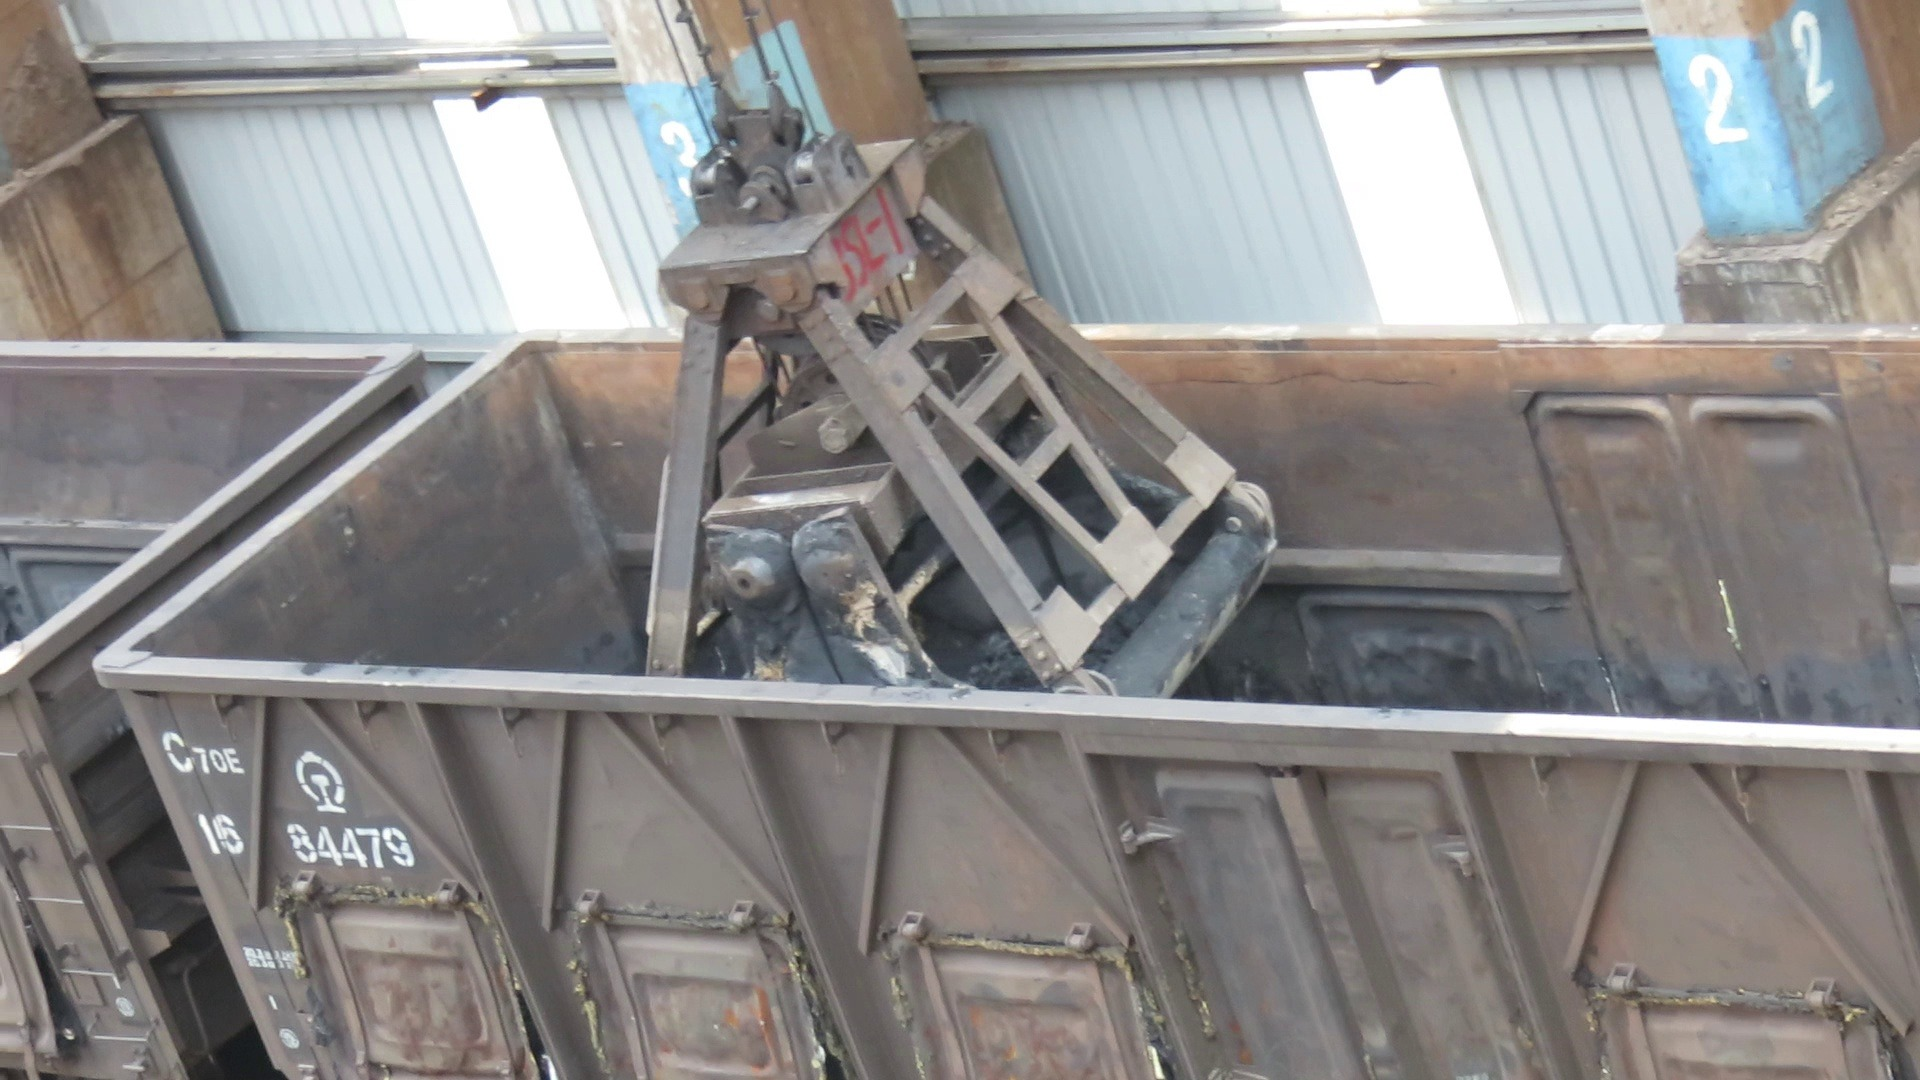grab: (632, 79, 1278, 704)
